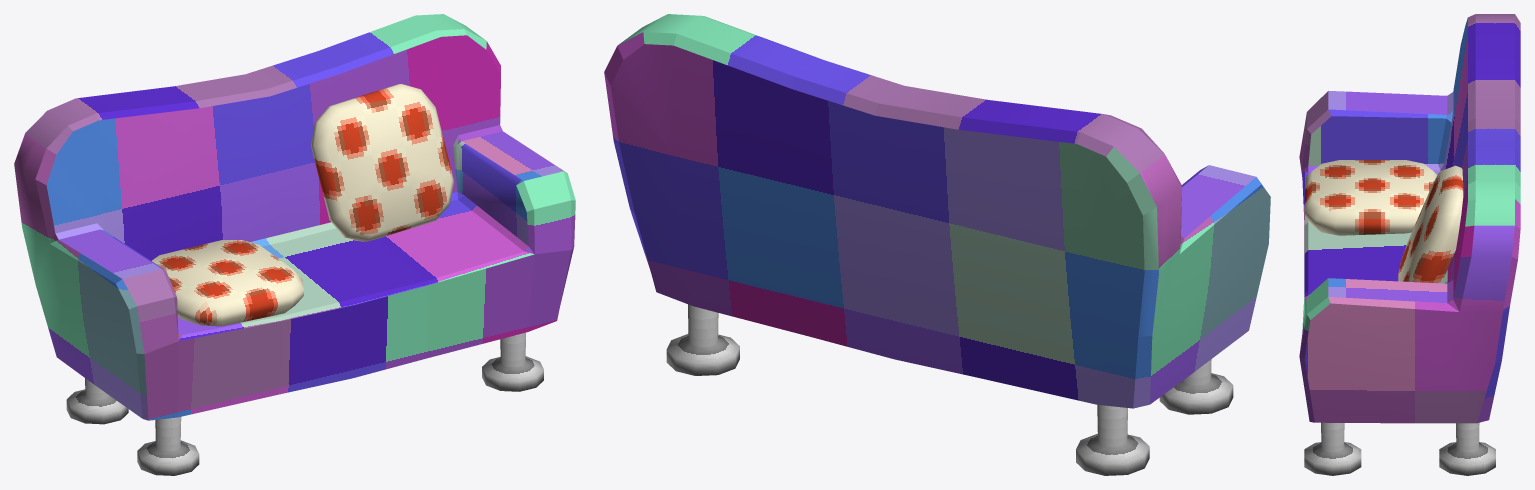
Rendered from rmk_dot_chairL_mtl.dae.
The picture shows the model from 3 angles, left to right: view 1: azimuth 30°, elevation 25°; view 2: azimuth 150°, elevation 25°; view 3: azimuth 270°, elevation 25°; orthographic projection. The views are drawn at different scales.
Visible parts, largest first — view 1: rmk_dot_chairL_mtl; view 2: rmk_dot_chairL_mtl; view 3: rmk_dot_chairL_mtl.
Boxes of the visible parts, <box> form: rmk_dot_chairL_mtl: <box>14,14,575,475</box>; rmk_dot_chairL_mtl: <box>604,14,1270,475</box>; rmk_dot_chairL_mtl: <box>1299,14,1520,475</box>.
Size of the model in its own units: 59.23 by 35.76 by 25.46.
3 materials, 3 textured.
